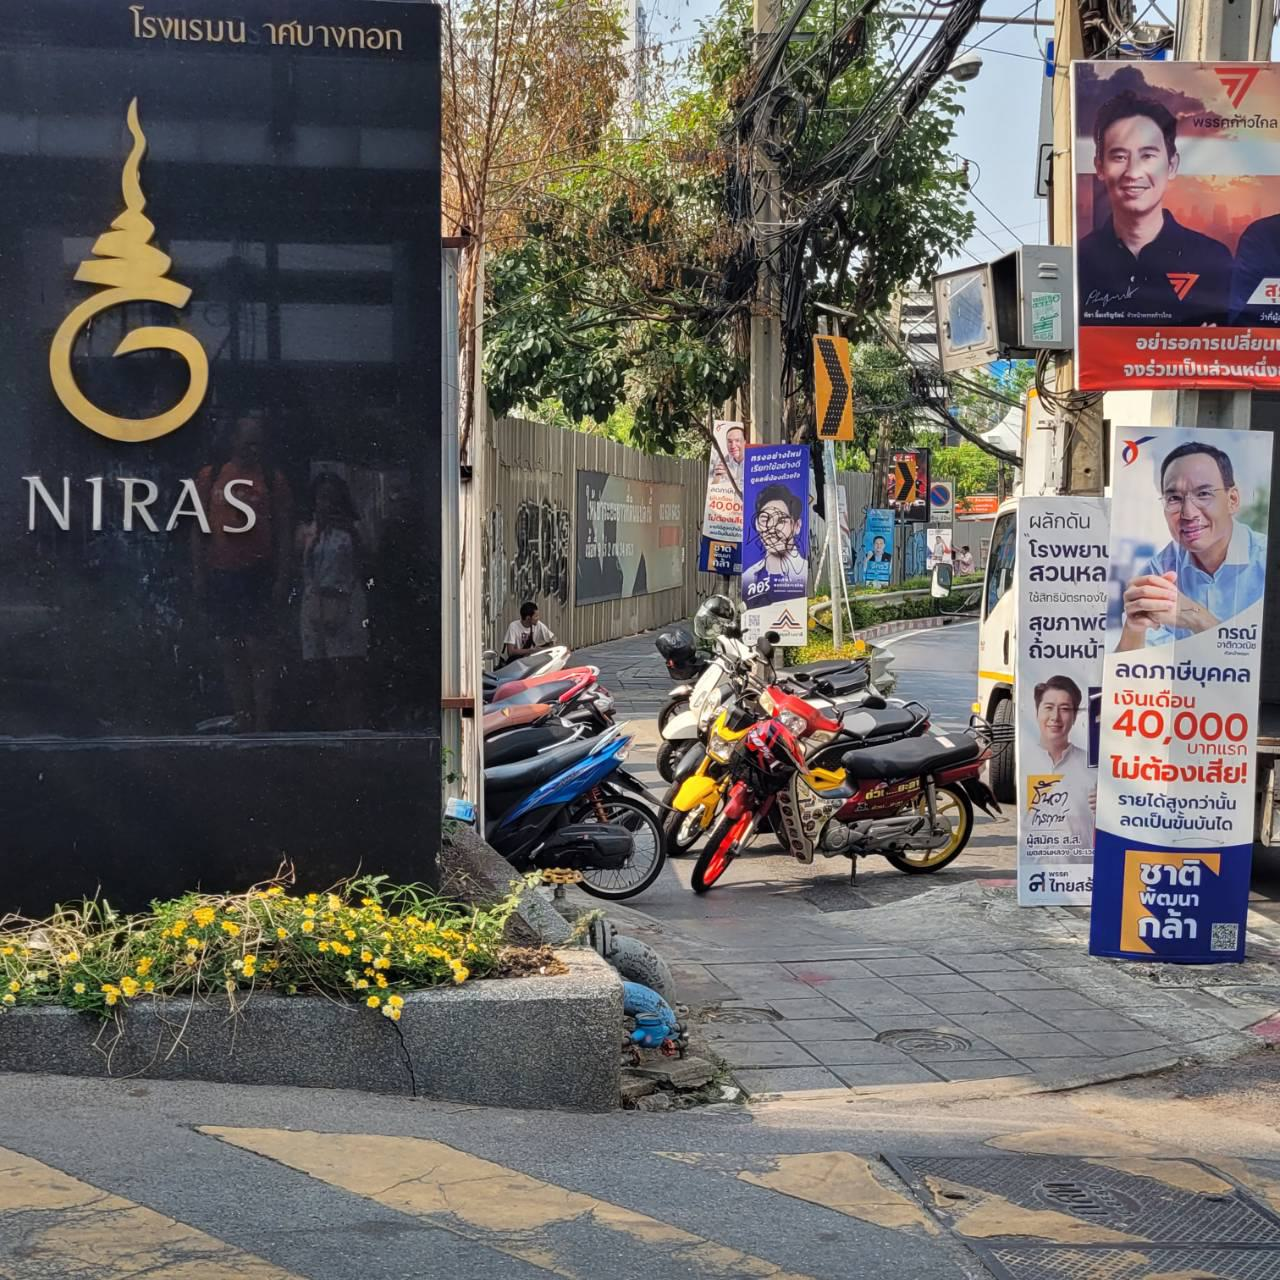Banner: (1081, 425, 1274, 967), (1071, 59, 1280, 404), (992, 492, 1114, 913), (731, 433, 819, 665)
